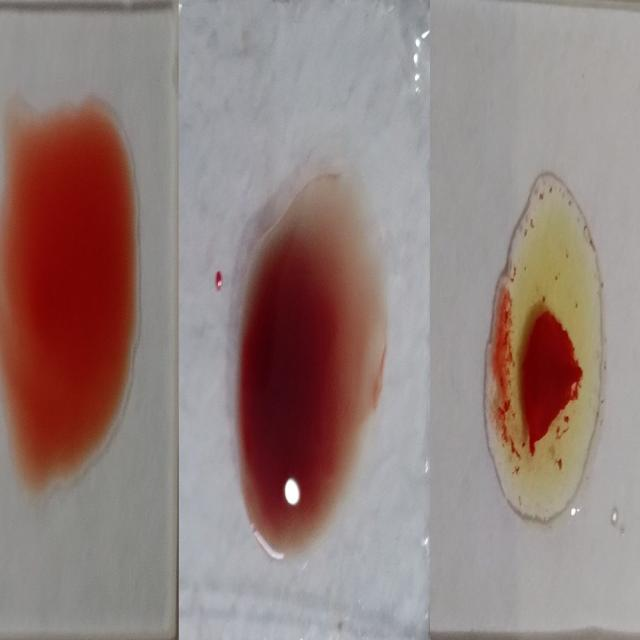B: (483, 174, 603, 514)
